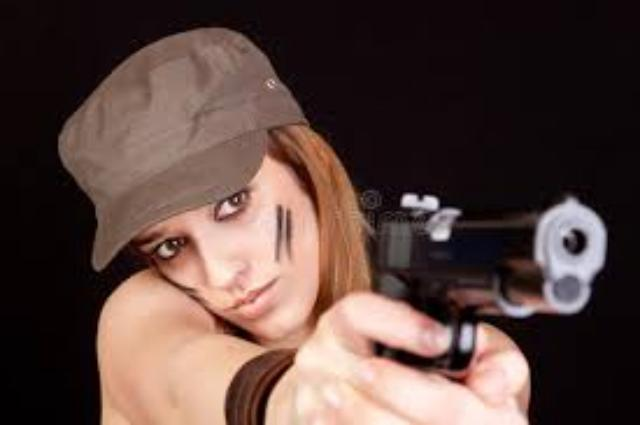other: (54, 31, 528, 424)
